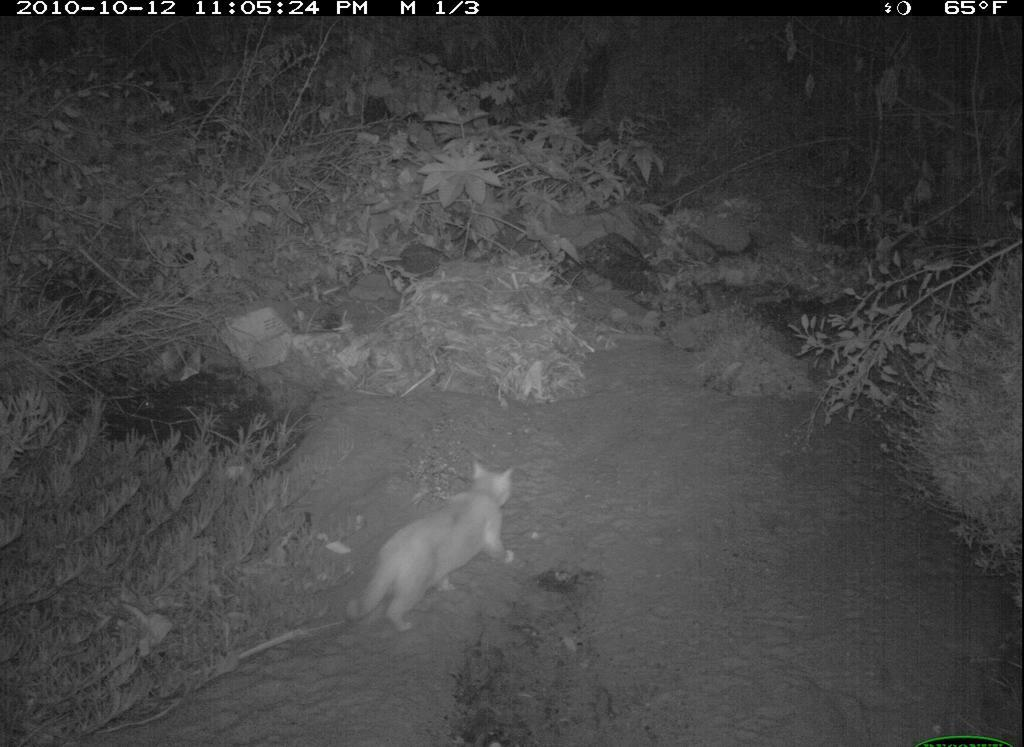cat: (337, 454, 521, 637)
